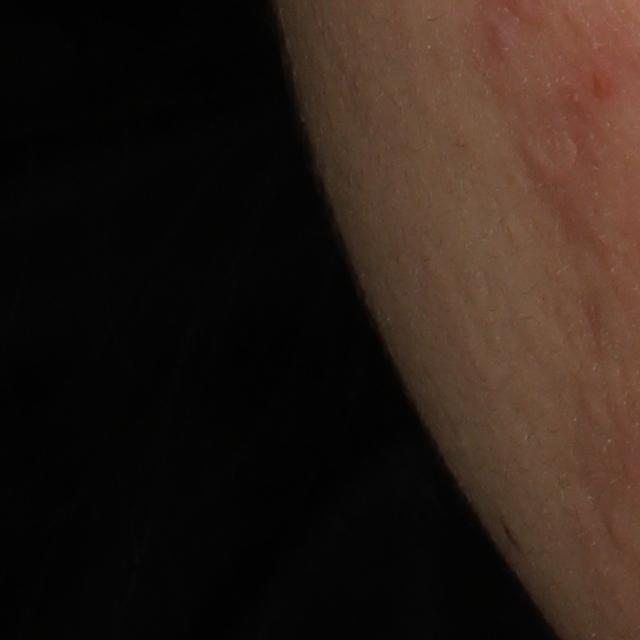papule: (588, 69, 615, 104)
